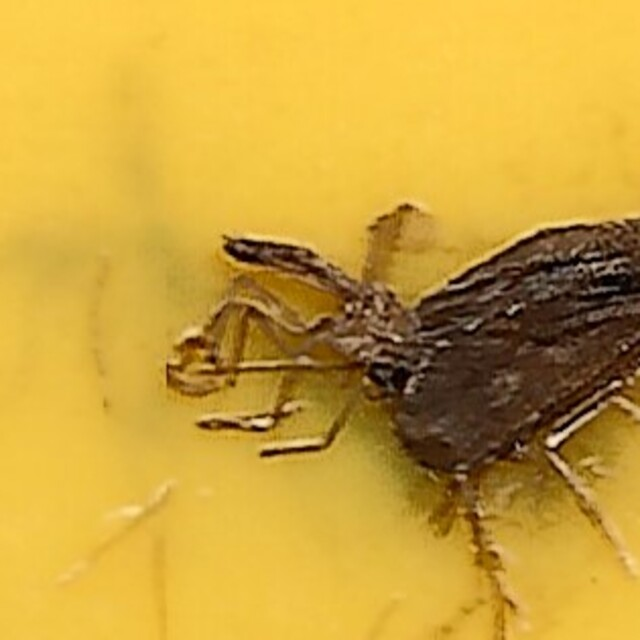Nematocera: (203, 224, 437, 416)
